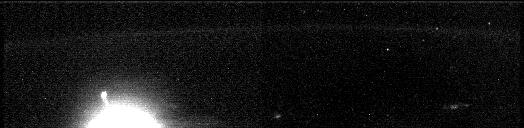positive: (96, 89, 112, 109)
